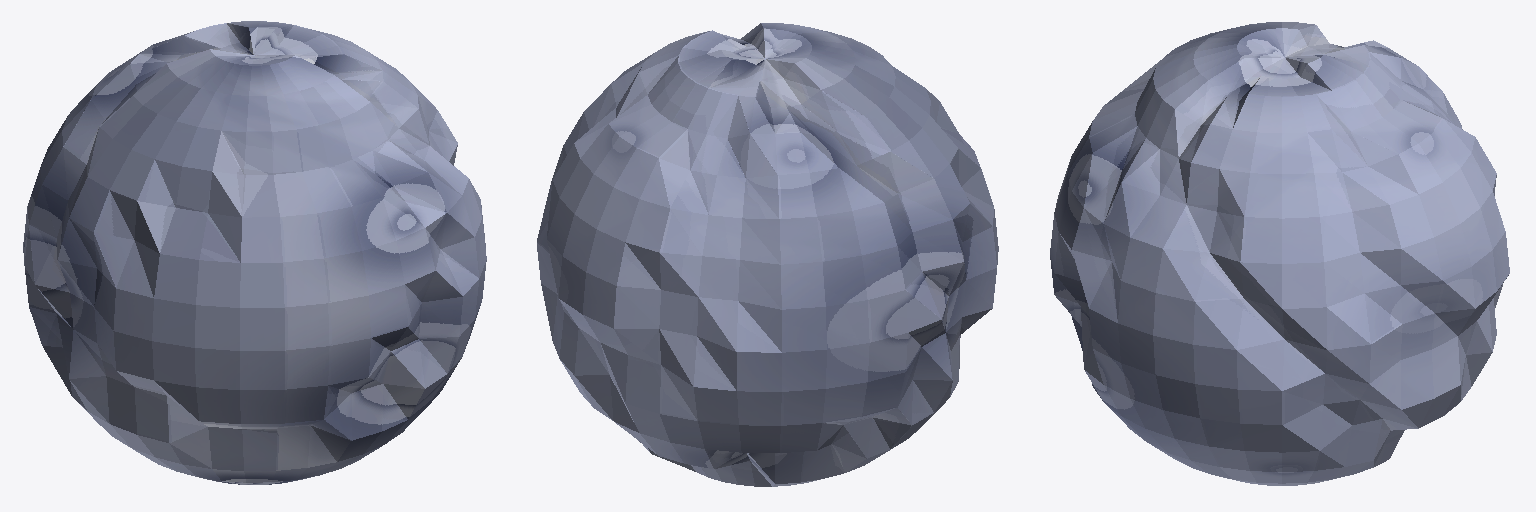
3 views of the same model, side by side, from view 1: azimuth 30°, elevation 25°; view 2: azimuth 150°, elevation 25°; view 3: azimuth 270°, elevation 25° (orthographic).
Visible parts, largest first — view 1: Sphere; view 2: Sphere; view 3: Sphere.
Part boxes in pixels (bbox=[...]): Sphere: bbox=[23, 21, 486, 484]; Sphere: bbox=[537, 23, 998, 486]; Sphere: bbox=[1050, 22, 1509, 485].
Size of the model in its own units: 1.96 by 1.98 by 1.98.
1 materials, 1 textured.